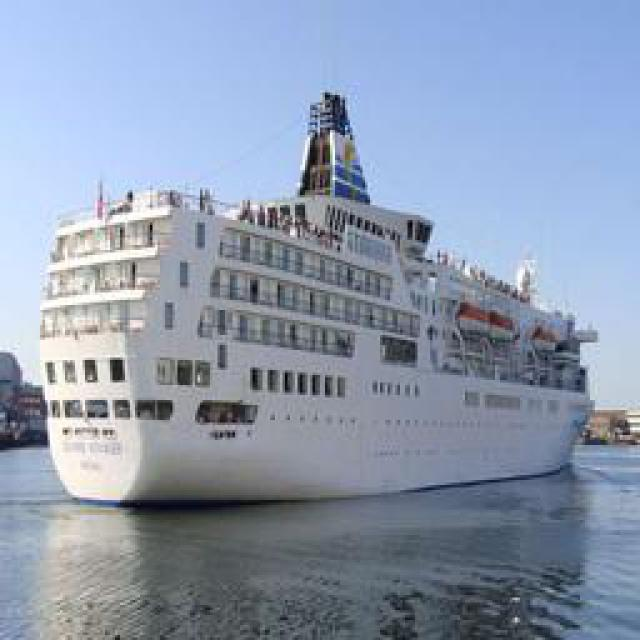Ship: (32, 85, 595, 505)
